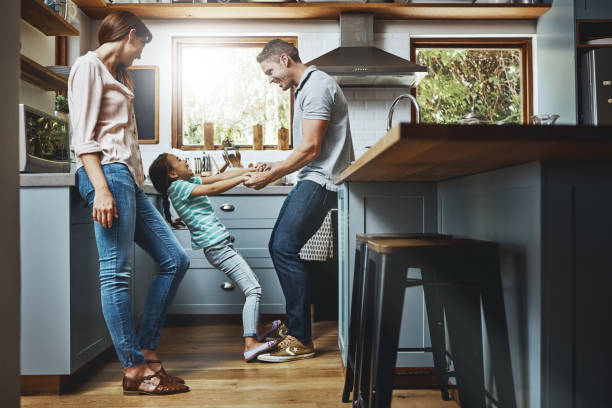without mask: (155, 140, 194, 193), (257, 45, 296, 98), (110, 20, 149, 73)
